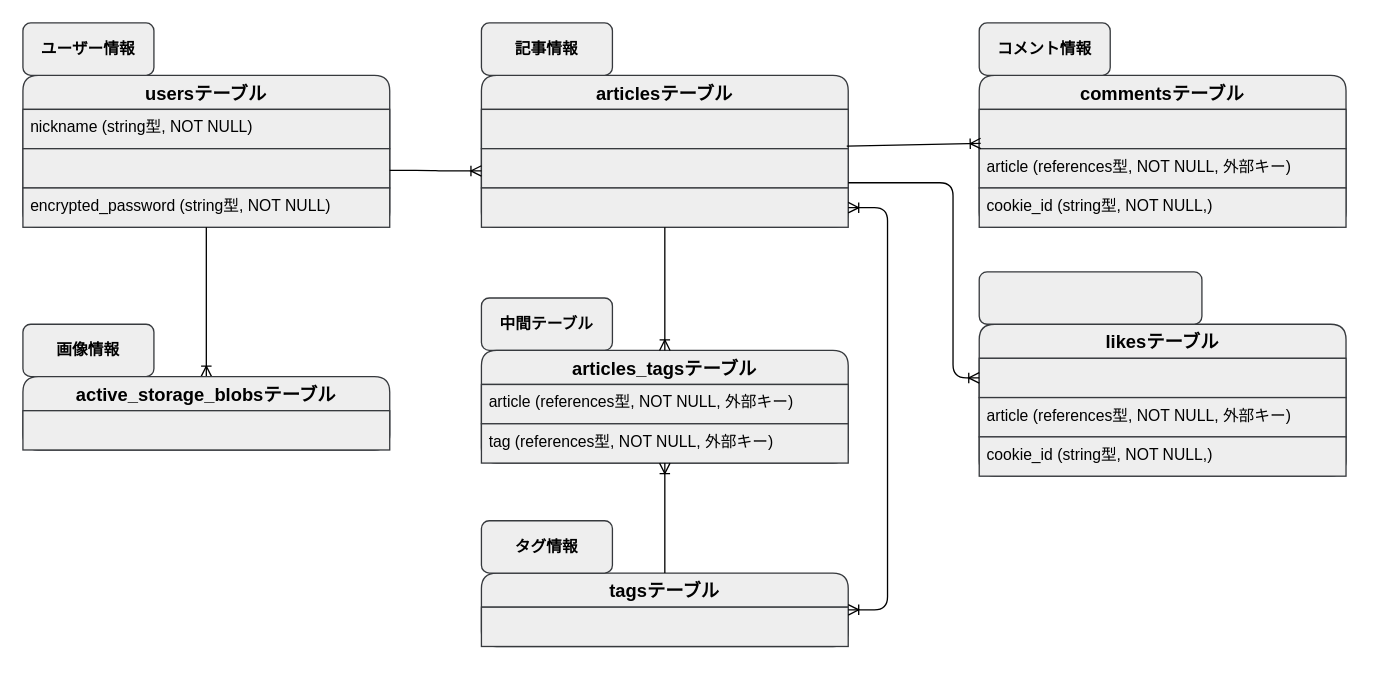
Image size: 1379x673. Some labels were removed from this diagram. Each missing label, with the centre of its shape:
content (text型, NOT NULL): [664,167]
email (string型, NOT NULL, ユニーク(一意)制約): [206,167]
image (NOT NULL) ActiveStrageで実装: [206,429]
ititle (string型, NOT NULL): [664,128]
like_id (integer型,0 or 1, NOT NULL): [1162,377]
message (text型, NOT NULL): [1162,128]
tag_name (string型, NOT NULL,): [664,626]
user (references型, NOT NULL, 外部キー): [664,207]
いいね！/良くないね！情報: [1090,297]
